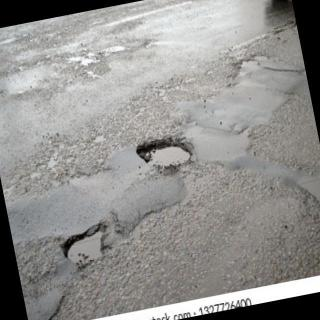pothole: (62, 222, 108, 269), (134, 138, 196, 168)
